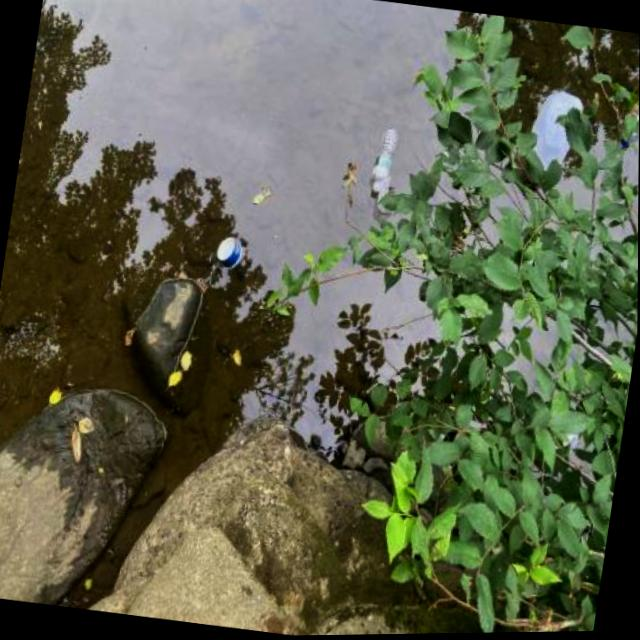Paper: (210, 231, 247, 274)
Plastic: (522, 86, 589, 182), (367, 124, 405, 200)
